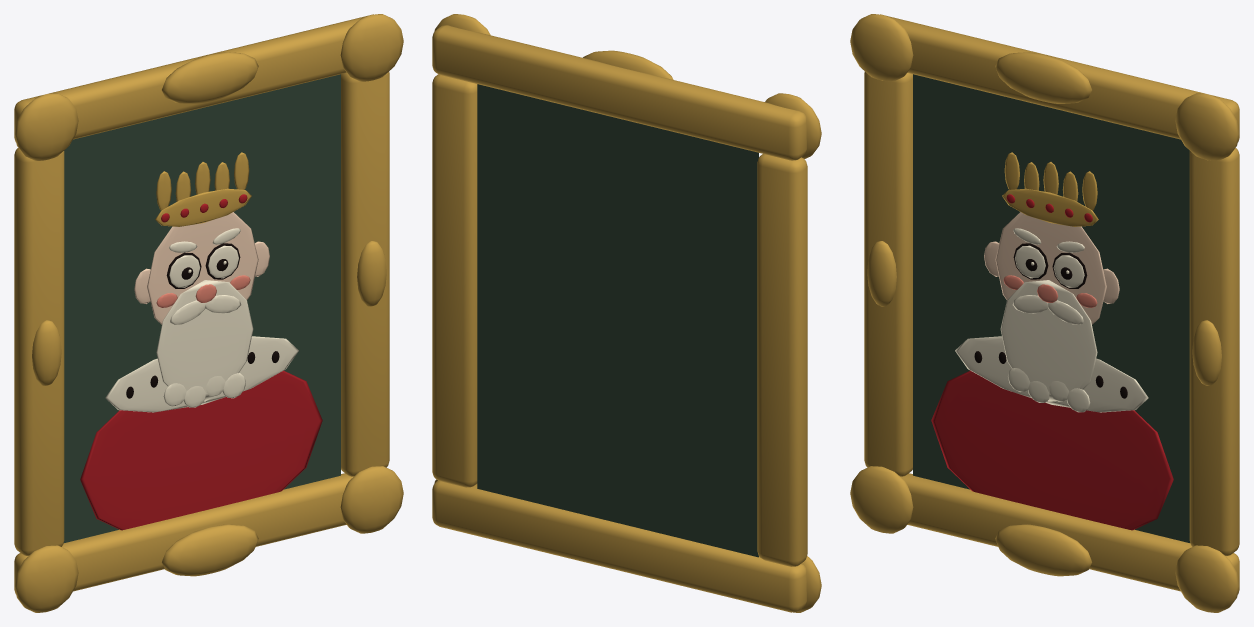
Rendered from PR_PortraitKing.fbx.
3 renders of one model, left to right at view 1: azimuth 30°, elevation 25°; view 2: azimuth 150°, elevation 25°; view 3: azimuth 330°, elevation 25°, orthographic.
Parts seen in each view (by area): view 1: PR_PortraitKing_Gold, PR_PortraitKing_CanvasGreen, PR_PortraitKing_RobeRed, PR_PortraitKing_Wax, PR_PortraitKing_Peach, PR_PortraitKing_Line, PR_PortraitKing_Blush; view 2: PR_PortraitKing_CanvasGreen, PR_PortraitKing_Gold; view 3: PR_PortraitKing_Gold, PR_PortraitKing_CanvasGreen, PR_PortraitKing_RobeRed, PR_PortraitKing_Wax, PR_PortraitKing_Peach, PR_PortraitKing_Line, PR_PortraitKing_Blush.
Boxes of the visible parts, x1,y1,x2,y2 form: PR_PortraitKing_Gold: (14,14,403,612); PR_PortraitKing_CanvasGreen: (63,74,340,542); PR_PortraitKing_RobeRed: (80,194,322,530); PR_PortraitKing_Wax: (105,228,298,412); PR_PortraitKing_Peach: (134,212,269,324); PR_PortraitKing_Line: (126,243,279,398); PR_PortraitKing_Blush: (156,275,250,307); PR_PortraitKing_CanvasGreen: (477,84,758,557); PR_PortraitKing_Gold: (432,14,821,612); PR_PortraitKing_Gold: (850,14,1239,612); PR_PortraitKing_CanvasGreen: (913,74,1190,542); PR_PortraitKing_RobeRed: (931,194,1173,530); PR_PortraitKing_Wax: (955,228,1148,412); PR_PortraitKing_Peach: (984,212,1119,324); PR_PortraitKing_Line: (974,243,1127,398); PR_PortraitKing_Blush: (1003,275,1097,307).
Bounding box in the file's own units: 0.7967 × 1.02 × 0.077.
